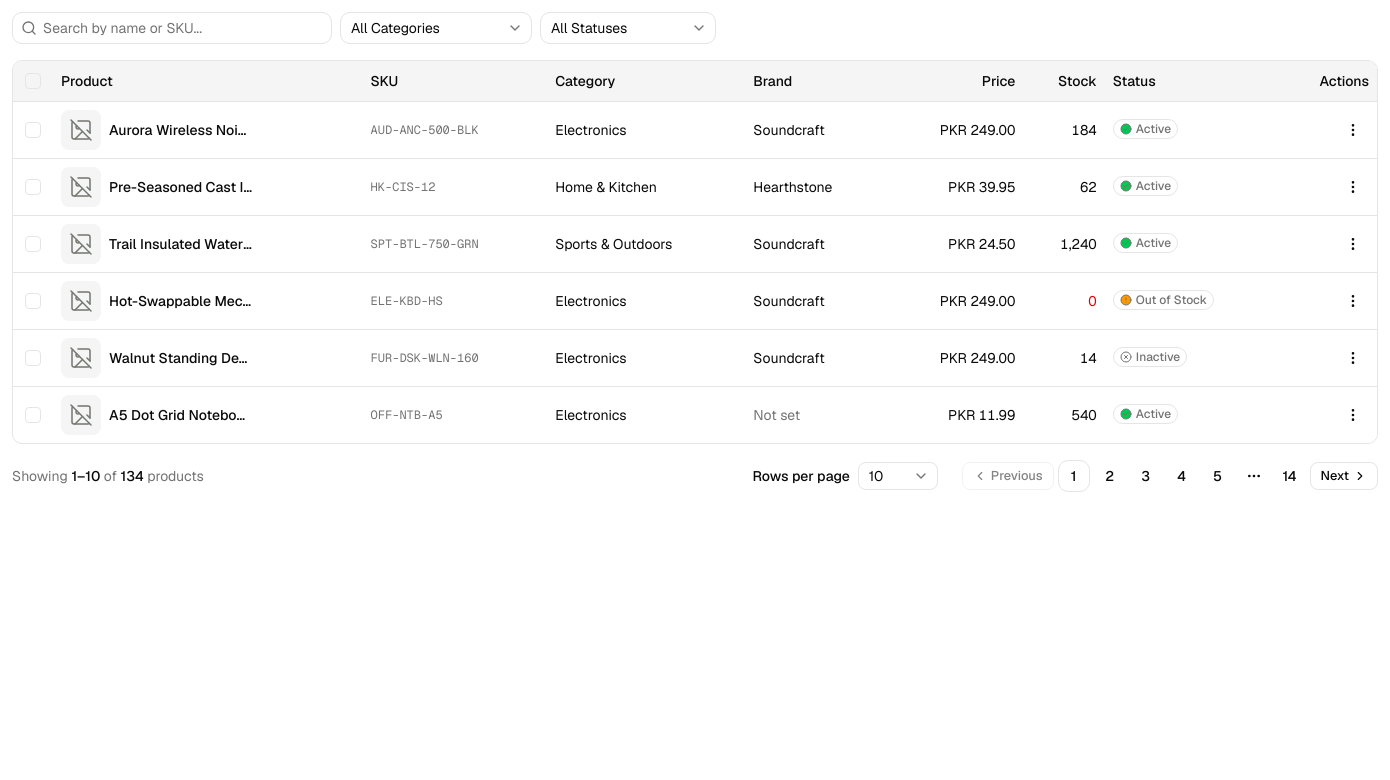
Test: ProductsList deleting › is not offered to staff
The width and height of the screenshot is (1390, 780).
Expected: the text "Aurora Wireless Noise-Cancelling Headphones" is shown, [109,120,253,140]
Click the checkbox named "Select A5 Dot Grid Notebook, 3-Pack": point(33, 414) [25,406,41,422]
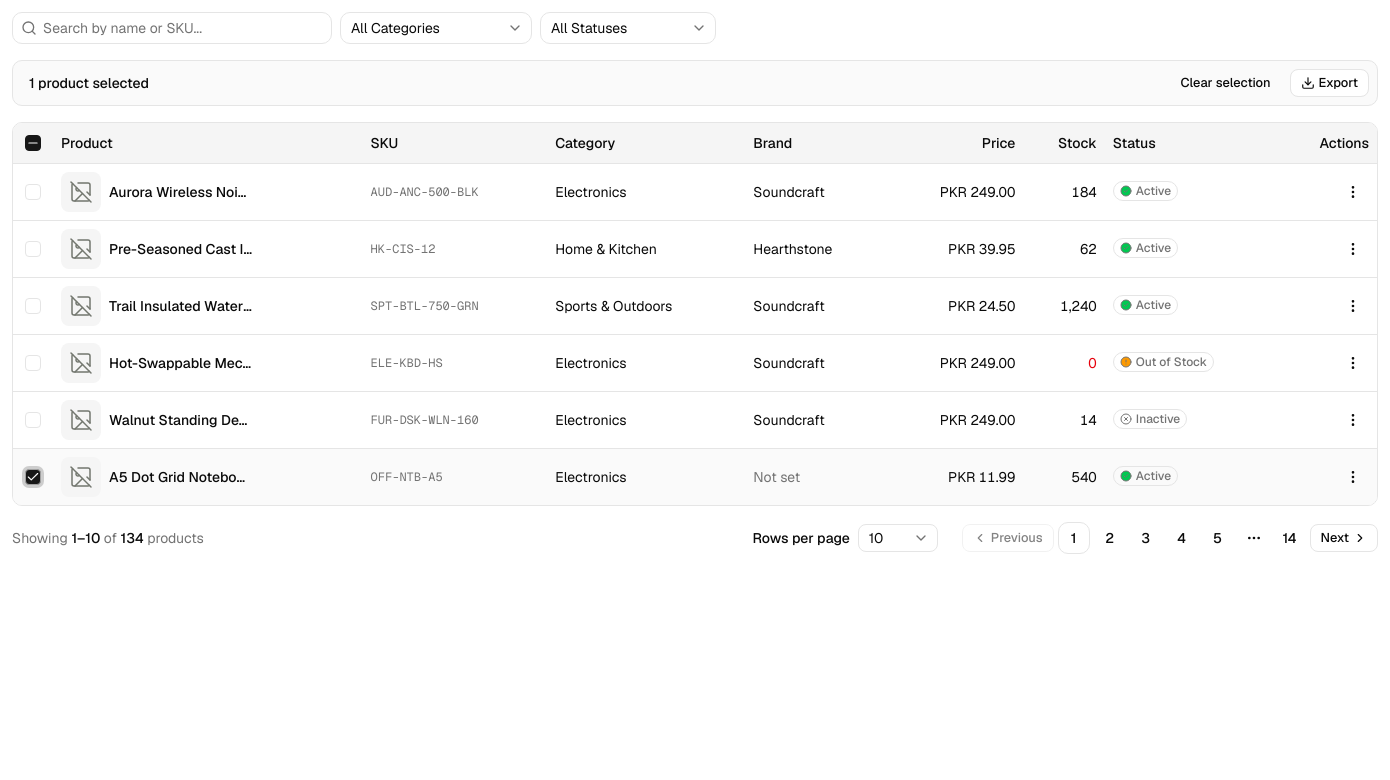
Expected: the button "Clear selection" is shown, [1170,69,1282,97]
